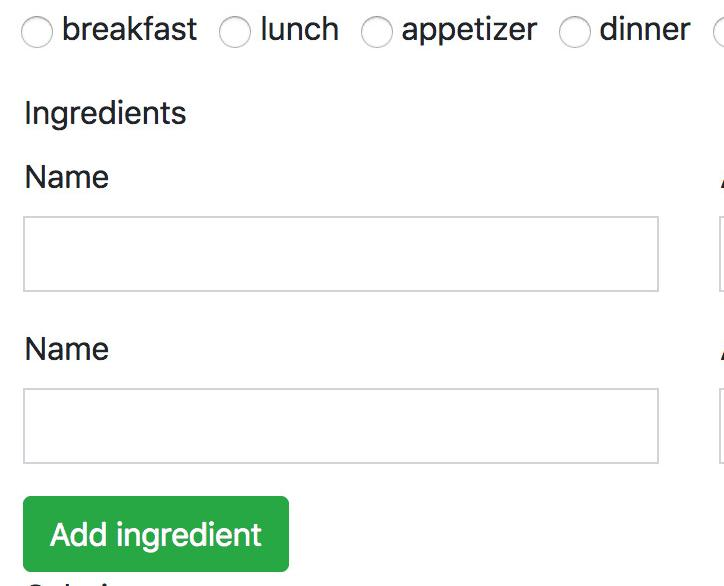button: (18, 490, 292, 576)
field: (15, 206, 667, 296), (17, 382, 663, 468)
field_with_label: (10, 332, 666, 476), (10, 165, 670, 305)
radio: (353, 12, 408, 55), (555, 12, 600, 57), (18, 10, 59, 53), (219, 12, 262, 53)
radio_with_label: (353, 7, 533, 61), (8, 5, 197, 56), (552, 7, 692, 65), (213, 5, 343, 59)
